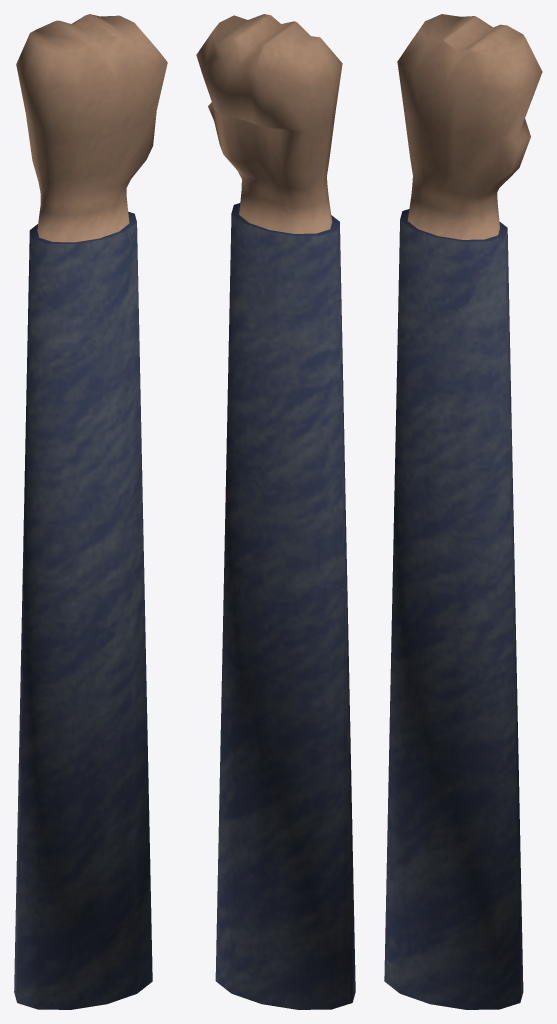
Rendered from fisthand.glb.
3 views of the same model, side by side, from view 1: azimuth 30°, elevation 25°; view 2: azimuth 150°, elevation 25°; view 3: azimuth 330°, elevation 25° (orthographic).
Parts seen in each view (by area): view 1: hand; view 2: hand; view 3: hand.
Part boxes in pixels (left/top/right/bottom): hand: left=14, top=14, right=167, bottom=1009; hand: left=196, top=14, right=355, bottom=1009; hand: left=384, top=14, right=542, bottom=1009.
Size of the model in its own units: 0.4243 by 2.69 by 0.3047.
Materials: 1 (1 with a texture image).
